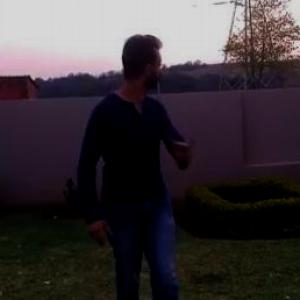takeoff-hand: (162, 126, 202, 168)
